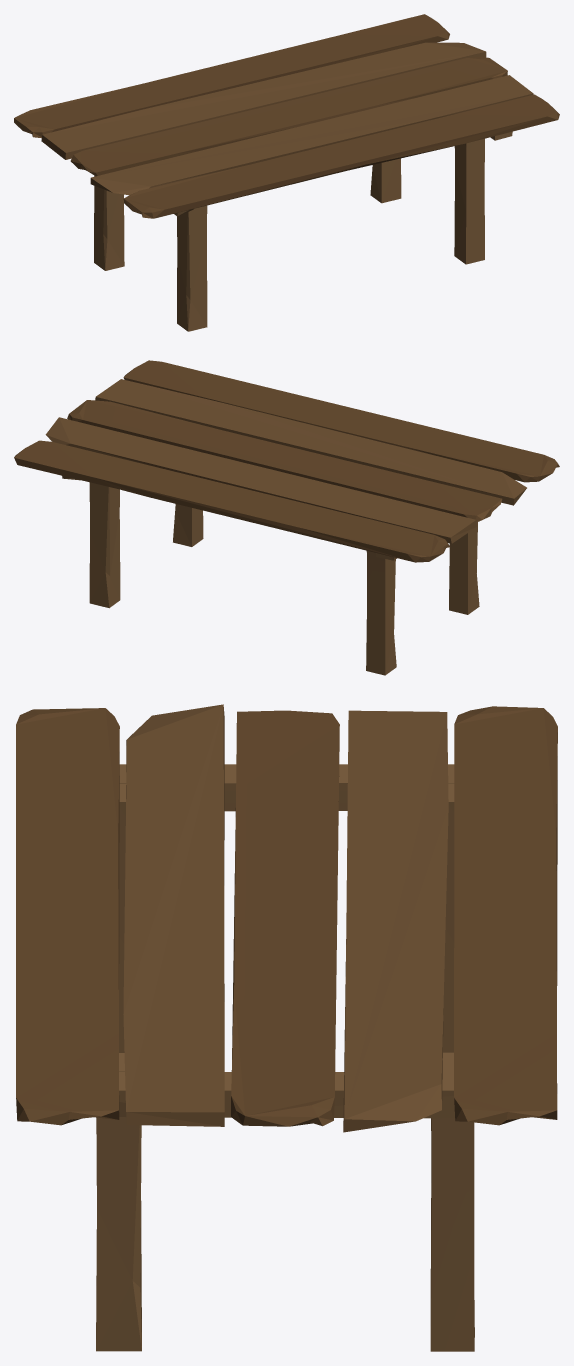
File: Mesh_Props_Table_01 1.FBX
3 renders of one model, top to bottom at view 1: azimuth 30°, elevation 25°; view 2: azimuth 150°, elevation 25°; view 3: azimuth 270°, elevation 25°, orthographic. The views are drawn at different scales.
Visible parts, largest first — view 1: Mesh_Props_Table_01; view 2: Mesh_Props_Table_01; view 3: Mesh_Props_Table_01.
Part boxes in pixels (box(x1,y1,x2,y2)): Mesh_Props_Table_01: box(14, 14, 559, 331); Mesh_Props_Table_01: box(14, 360, 559, 675); Mesh_Props_Table_01: box(16, 704, 557, 1351).
Bounding box in the file's own units: 96.85 × 32.24 × 53.46.
